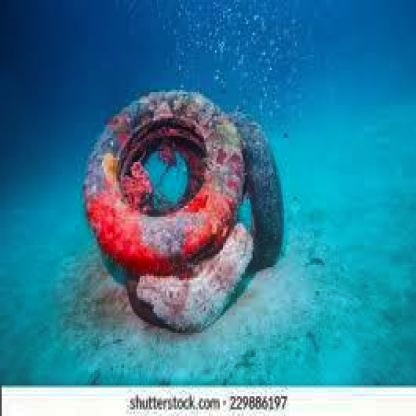tire: (85, 94, 237, 237), (232, 94, 297, 280)
